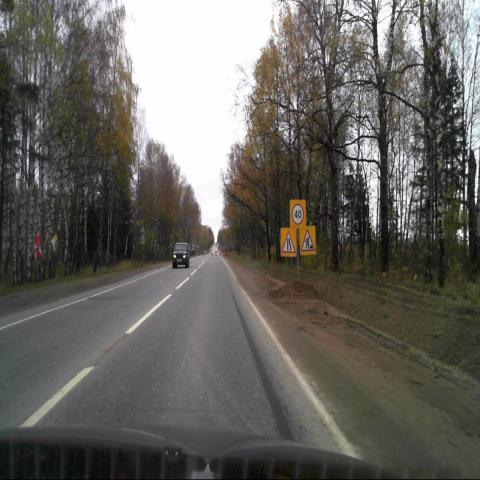1_20_2: (280, 227, 296, 256)
1_25: (300, 225, 316, 255)
3_24: (290, 199, 306, 229)
